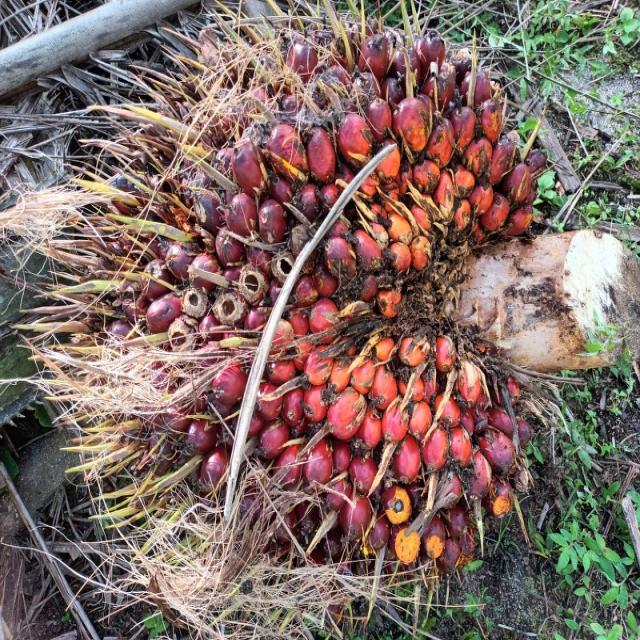fraksi 3: (47, 4, 585, 599)
